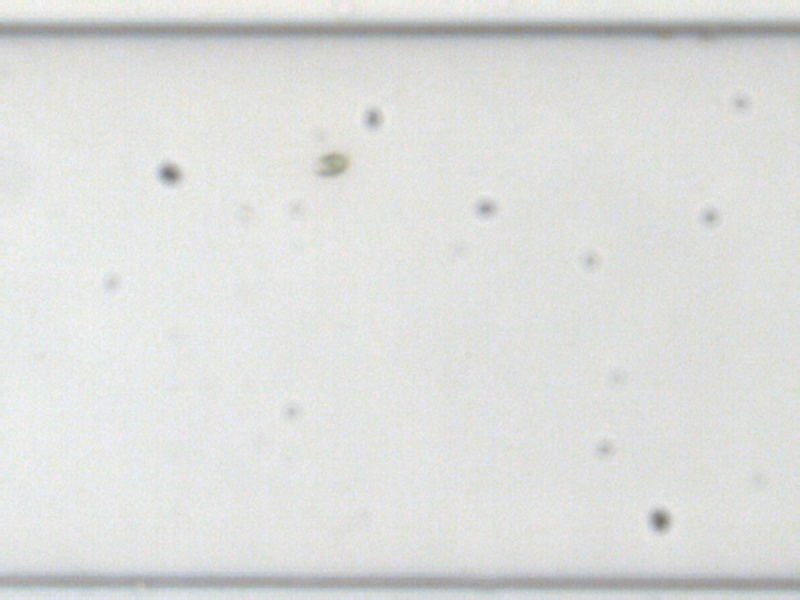Dunaliella salina: (312, 152, 353, 179)
